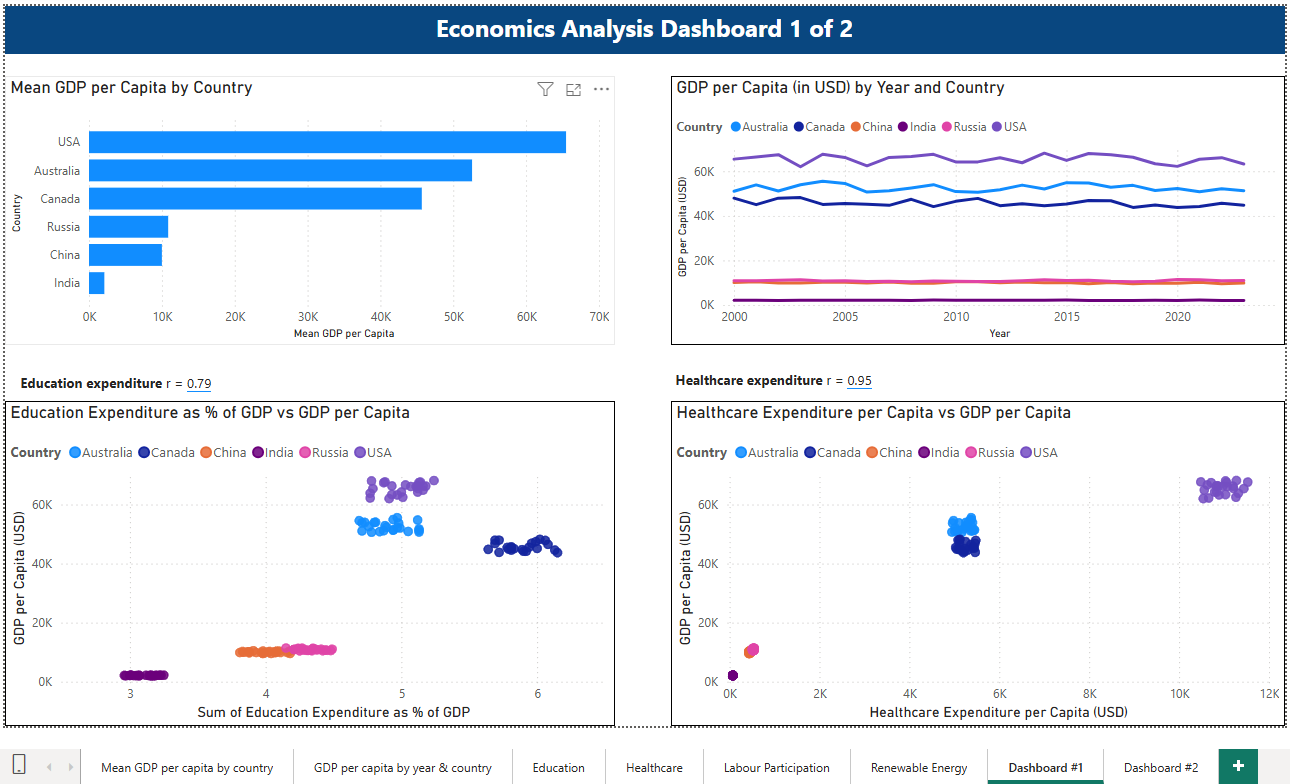

This screenshot's page, from the dashboard's own definition file:
{"tool":"powerbi","page":{"name":"Dashboard #1","canvas":[1280,720],"ordinal":6},"visuals":[{"type":"scatterChart","title":"Education Expenditure as % of GDP vs GDP per Capita","fields":{"Category":["Global_Economic_Data_Cleaned.Year"],"Series":["Global_Economic_Data_Cleaned.Country"],"X":["Sum(Global_Economic_Data_Cleaned.Education Expenditure as % of GDP)"],"Y":["Sum(Global_Economic_Data_Cleaned.GDP per Capita (in USD))"]},"box":[0,395,610,325],"z":0},{"type":"textbox","box":[10.6,362.5,282.7,32.9],"z":1000},{"type":"clusteredBarChart","fields":{"Category":["Global_Economic_Data_Cleaned.Country"],"Y":["Global_Economic_Data_Cleaned.Mean GDP per Capita"]},"box":[0,70,610,269],"z":2000},{"type":"lineChart","title":"GDP per Capita (in USD) by Year and Country","fields":{"Category":["Global_Economic_Data_Cleaned.Year"],"Series":["Global_Economic_Data_Cleaned.Country"],"Y":["Sum(Global_Economic_Data_Cleaned.GDP per Capita (in USD))"]},"box":[666.4,70.4,613.6,268.7],"z":3000},{"type":"scatterChart","title":"Healthcare Expenditure per Capita vs GDP per Capita","fields":{"Category":["Global_Economic_Data_Cleaned.Year"],"Series":["Global_Economic_Data_Cleaned.Country"],"X":["Sum(Global_Economic_Data_Cleaned.Healthcare Expenditure per Capita (USD))"],"Y":["Sum(Global_Economic_Data_Cleaned.GDP per Capita (in USD))"]},"box":[666.4,395.4,613.6,325],"z":4000},{"type":"textbox","box":[666.4,360.2,221.1,33.3],"z":5000},{"type":"textbox","box":[0,0,1280,48.1],"z":6000}]}

Visuals, with their boxes in screenshot pixels (x1, y1, x2, y2):
"Education Expenditure as % of GDP vs GDP per Capita" scatterChart: 7, 396, 613, 719
textbox: 17, 364, 298, 396
clusteredBarChart - Global_Economic_Data_Cleaned.Country x Global_Economic_Data_Cleaned.Mean GDP per Capita: 7, 73, 613, 340
"GDP per Capita (in USD) by Year and Country" lineChart: 669, 73, 1279, 340
"Healthcare Expenditure per Capita vs GDP per Capita" scatterChart: 669, 396, 1279, 719
textbox: 669, 361, 889, 394
textbox: 7, 3, 1279, 51
